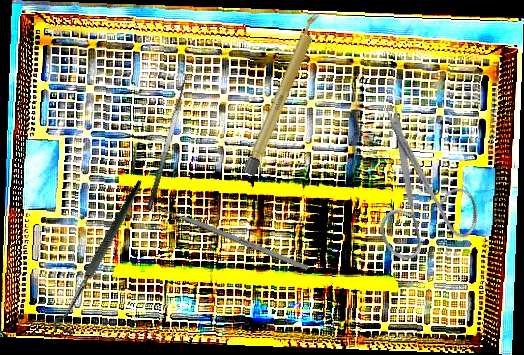Hook Surgical: (12, 179, 192, 341)
Iris Scissors: (318, 97, 509, 285)
Pusher: (147, 201, 309, 271)
Scalpel Handle: (242, 11, 324, 177)
Spatula Surgical: (134, 69, 195, 212)
